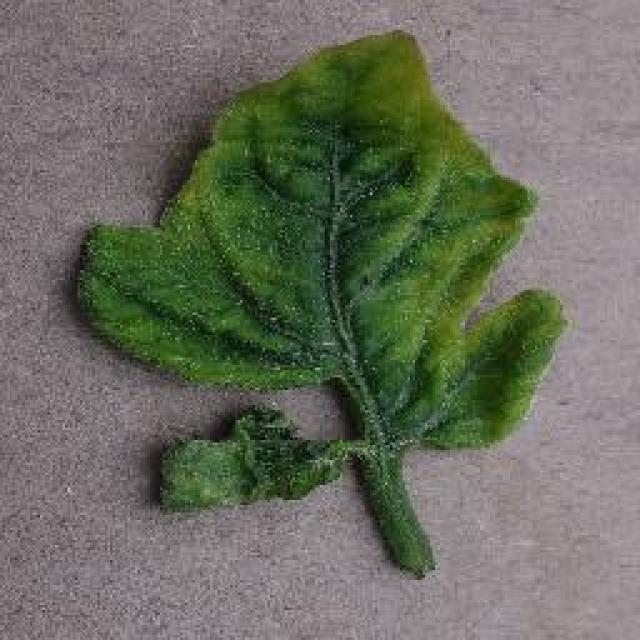Tomato yellow virus leaf: (75, 28, 565, 450)
